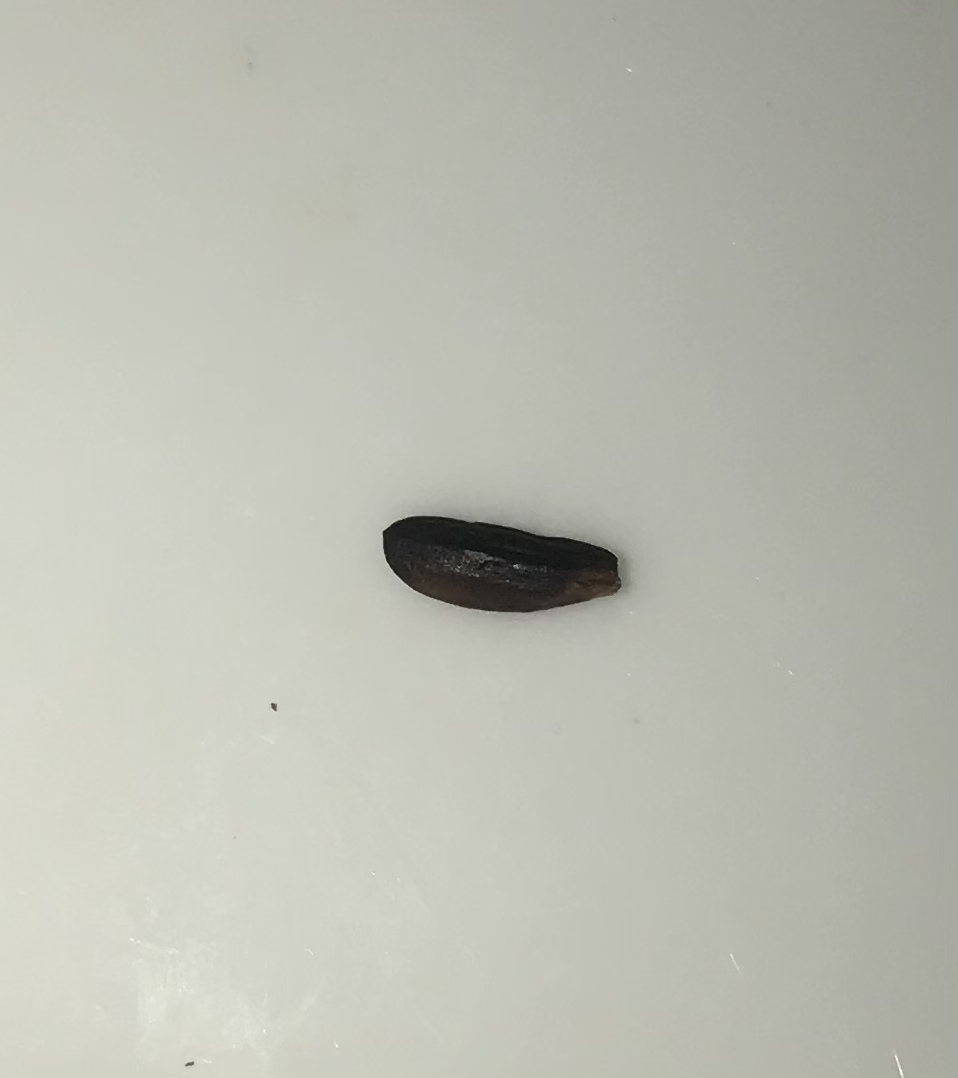Gao Nep Cam: (378, 481, 647, 653)
